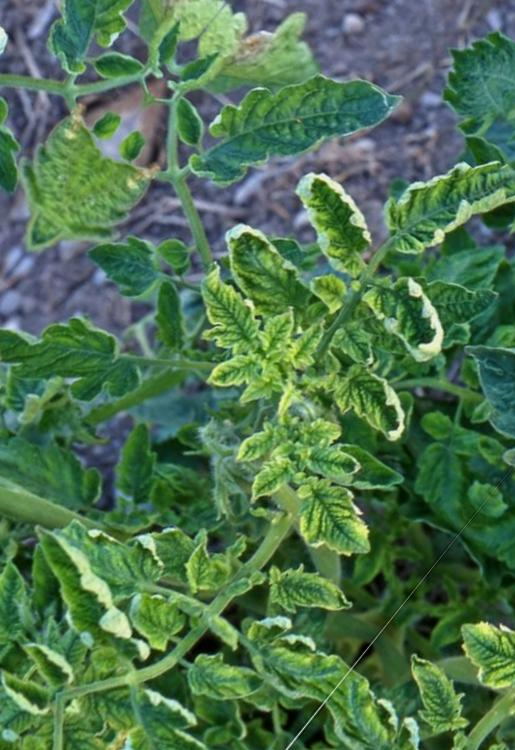Tomato leaf yellow virus: (369, 84, 515, 303), (262, 159, 397, 290), (271, 458, 397, 581), (173, 258, 285, 366), (358, 262, 469, 368), (256, 548, 362, 649), (324, 357, 424, 452), (113, 577, 200, 662), (245, 296, 310, 363)
